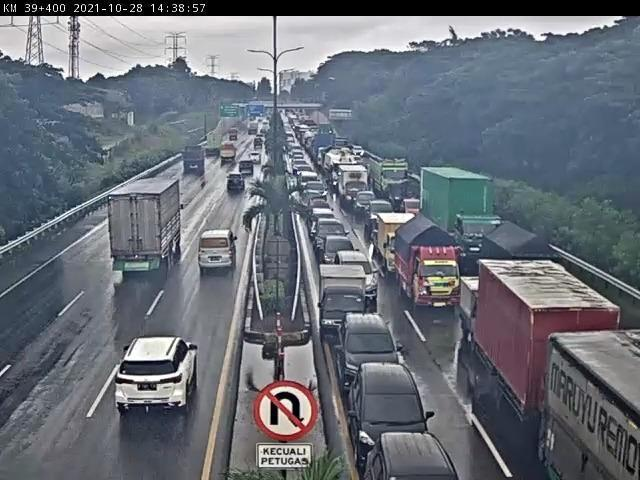car: (350, 366, 437, 465), (117, 335, 202, 413), (336, 315, 400, 399), (365, 434, 462, 480), (337, 253, 382, 303), (199, 229, 240, 273), (321, 237, 362, 278), (313, 220, 351, 259), (368, 200, 396, 232), (311, 208, 336, 238), (302, 190, 325, 222), (298, 170, 320, 197), (357, 193, 378, 218), (225, 173, 246, 195), (239, 162, 256, 178), (248, 154, 262, 169)
truck: (480, 260, 627, 447), (479, 220, 563, 314), (110, 178, 189, 277), (418, 166, 492, 257), (395, 217, 464, 314), (460, 275, 523, 352), (318, 262, 370, 338), (378, 213, 421, 278), (369, 156, 413, 198), (340, 166, 370, 208), (180, 145, 207, 173), (200, 134, 223, 162), (220, 142, 239, 166), (227, 131, 240, 145), (252, 140, 263, 151)
